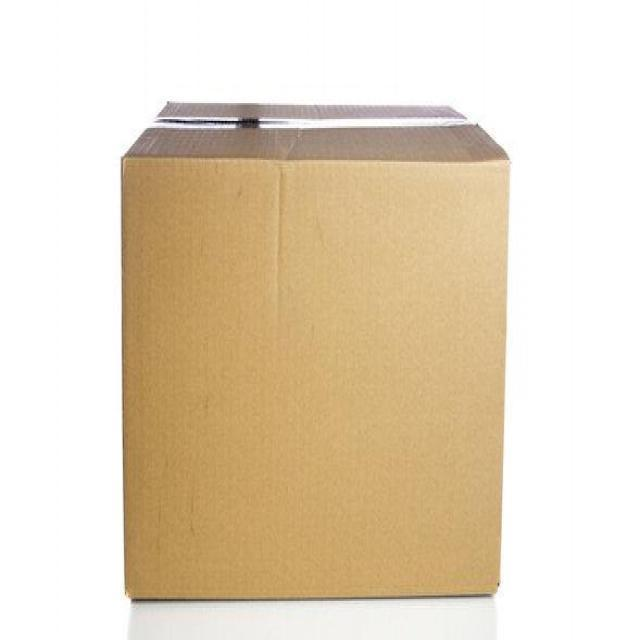box: (107, 88, 512, 602)
